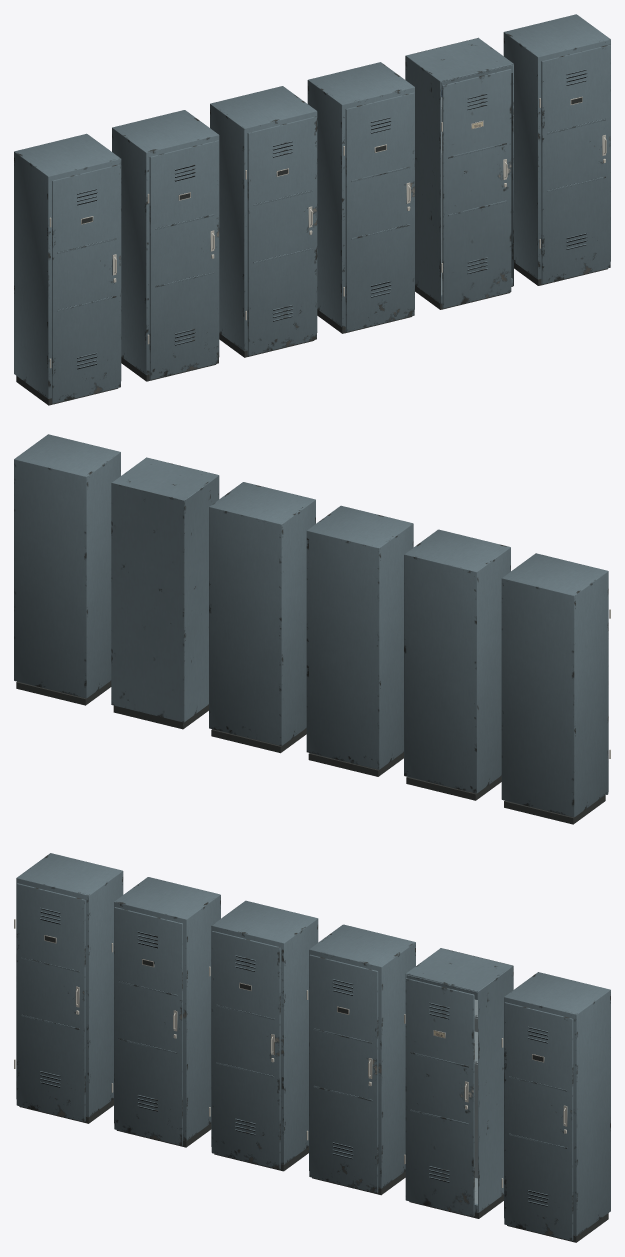
Rendered from LSB_ENV_PRP_Lockers_v01.fbx.
The picture shows the model from 3 angles, top to bottom: view 1: azimuth 30°, elevation 25°; view 2: azimuth 150°, elevation 25°; view 3: azimuth 330°, elevation 25°; orthographic projection.
Parts seen in each view (by area): view 1: Lockers, LockerDoor_Zhou, Locker_Zhou; view 2: Lockers, Locker_Zhou; view 3: Lockers, LockerDoor_Zhou, Locker_Zhou.
Part boxes in pixels (x1=…): Lockers: x1=14, y1=14, x2=610, y2=405; LockerDoor_Zhou: x1=442, y1=68, x2=511, y2=308; Locker_Zhou: x1=405, y1=37, x2=513, y2=309; Lockers: x1=14, y1=434, x2=610, y2=824; Locker_Zhou: x1=111, y1=457, x2=219, y2=729; Lockers: x1=14, y1=853, x2=610, y2=1242; LockerDoor_Zhou: x1=405, y1=978, x2=474, y2=1216; Locker_Zhou: x1=404, y1=948, x2=513, y2=1218.
Bounding box in the file's own units: 4.6 × 1.8 × 0.5484.
